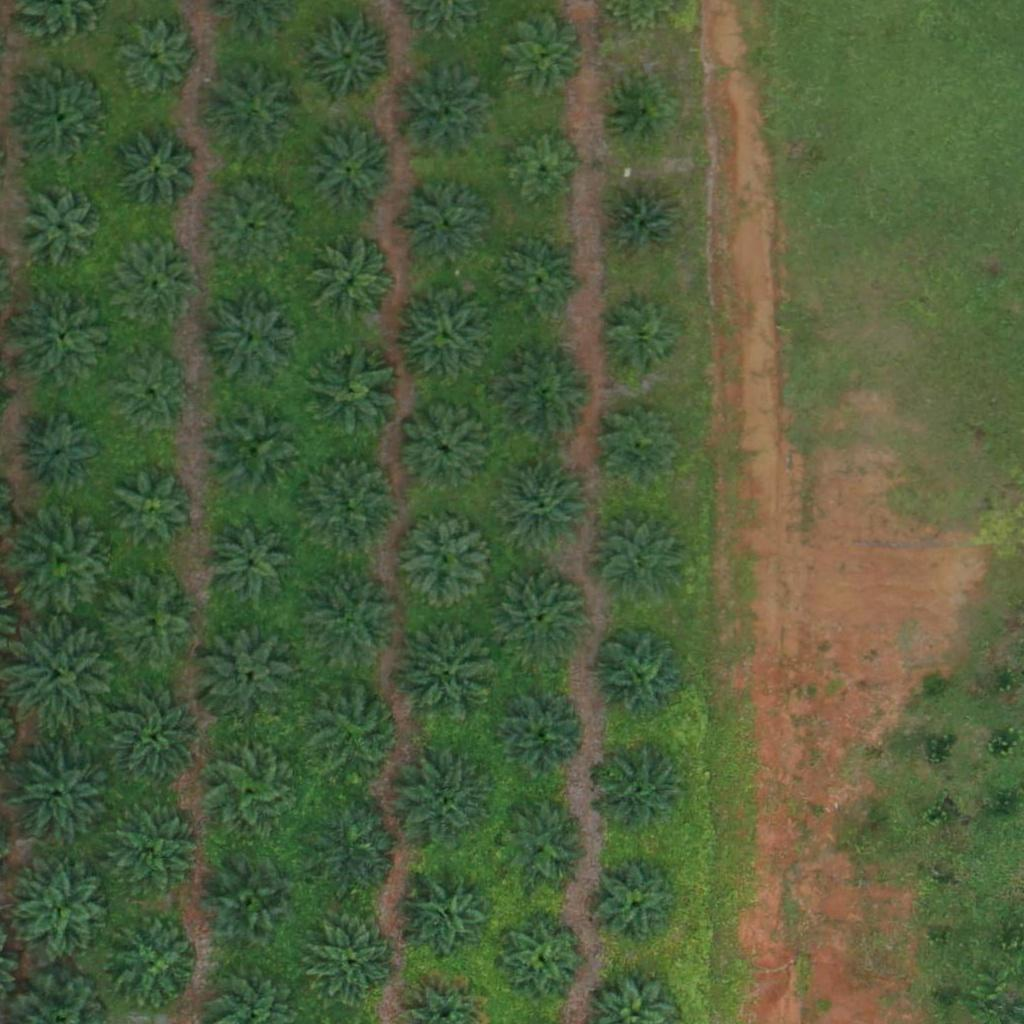Kelapa_Sawit: (3, 618, 116, 731), (6, 738, 119, 851), (391, 64, 491, 165), (296, 5, 396, 106), (15, 286, 115, 387), (105, 799, 205, 900), (205, 398, 305, 499), (300, 451, 400, 552), (305, 572, 405, 673), (396, 511, 496, 612), (395, 622, 495, 723), (396, 755, 496, 856), (498, 456, 598, 557), (491, 567, 591, 668), (590, 626, 690, 727), (494, 345, 594, 445), (394, 284, 494, 384), (300, 341, 400, 441), (205, 61, 305, 161), (200, 288, 300, 388), (13, 67, 113, 167), (13, 514, 113, 614), (101, 572, 201, 672), (199, 620, 299, 720), (308, 681, 408, 781), (307, 801, 407, 901), (402, 407, 490, 496), (596, 300, 684, 388), (499, 237, 587, 325), (400, 181, 488, 269), (113, 18, 201, 106), (207, 521, 295, 609), (206, 743, 294, 831), (209, 862, 297, 950), (496, 691, 584, 779), (598, 747, 686, 835), (594, 861, 682, 949), (309, 918, 397, 1006), (497, 9, 584, 97), (600, 181, 687, 269), (305, 129, 392, 217), (308, 240, 395, 328), (208, 189, 295, 277), (20, 181, 107, 269), (18, 868, 105, 956), (113, 692, 200, 780), (500, 803, 587, 891), (596, 401, 683, 489), (596, 516, 683, 604), (405, 875, 492, 963), (497, 914, 584, 1002), (109, 921, 196, 1009), (122, 135, 197, 211), (120, 246, 195, 322), (23, 416, 98, 492), (117, 469, 192, 545), (508, 135, 583, 210), (112, 361, 187, 436), (605, 79, 668, 142)
